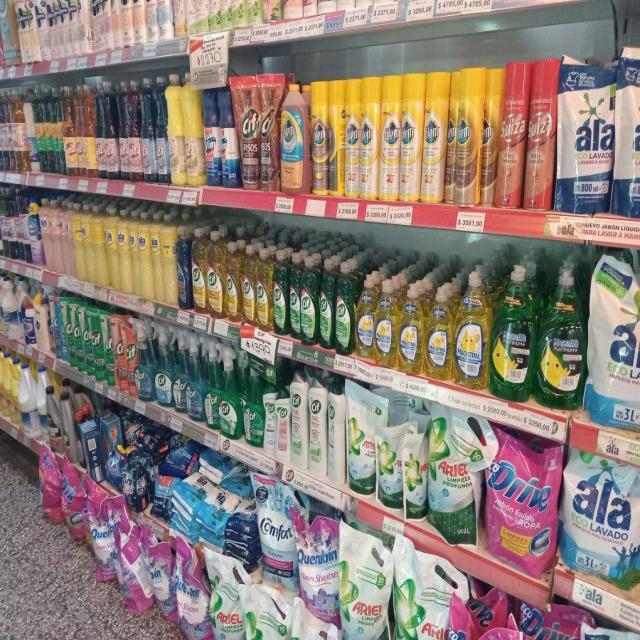ala_conc_azul: (177, 222, 191, 310)
ala_crem_amarillo: (162, 212, 177, 306), (138, 210, 152, 299), (119, 208, 131, 294), (106, 205, 118, 291), (93, 204, 105, 286), (152, 211, 162, 301), (74, 202, 84, 282), (130, 210, 138, 296), (84, 203, 92, 282)
ala_crem_rosado: (62, 202, 72, 278)
cif_conc_bot_amarilla: (207, 229, 225, 317), (256, 246, 272, 330), (192, 226, 206, 313), (226, 240, 241, 321), (242, 242, 255, 325)
cif_conc_botella_verde: (335, 258, 355, 354), (301, 252, 318, 344), (319, 256, 334, 349), (274, 248, 288, 336), (289, 251, 301, 339)
magistral_con_amarillo: (454, 269, 490, 389), (425, 284, 453, 379), (399, 282, 424, 374), (375, 277, 397, 367), (356, 273, 374, 359)
